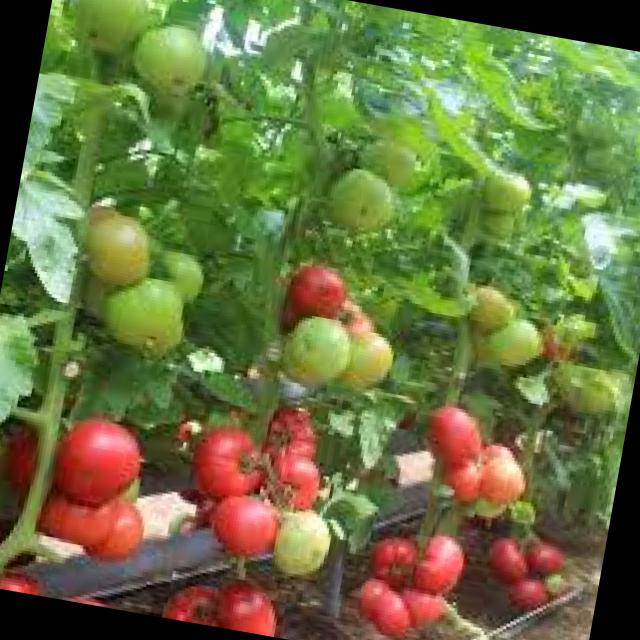Tomato: (47, 178, 231, 376), (178, 400, 374, 584), (0, 397, 170, 575), (266, 252, 416, 409), (412, 386, 556, 538), (52, 0, 231, 111), (345, 507, 488, 640), (468, 511, 589, 635), (333, 122, 441, 256), (155, 554, 310, 640), (448, 266, 558, 387), (467, 161, 553, 266), (0, 564, 159, 616)
